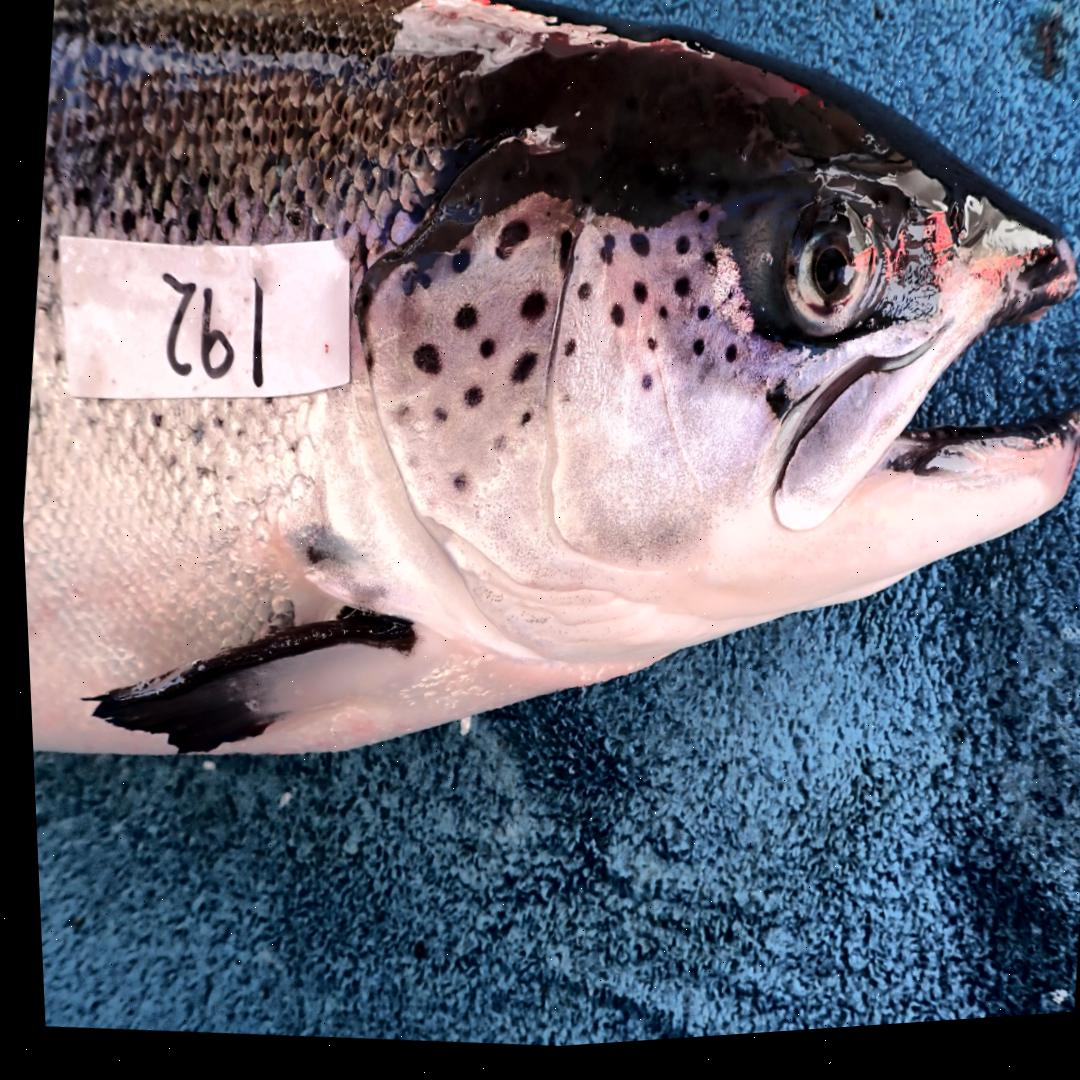spot: (491, 226, 527, 265), (409, 349, 437, 379), (506, 358, 533, 389), (517, 298, 543, 329), (396, 276, 427, 301), (450, 309, 474, 337), (555, 237, 569, 277), (448, 254, 468, 280), (596, 242, 612, 271), (447, 475, 467, 498), (627, 241, 646, 264), (460, 392, 478, 412), (629, 289, 644, 312), (670, 286, 687, 306), (606, 311, 620, 334), (699, 257, 715, 277), (476, 344, 491, 364), (428, 410, 442, 429), (673, 243, 686, 263), (574, 289, 587, 309), (692, 315, 705, 330), (488, 443, 501, 458), (561, 346, 572, 363), (721, 354, 732, 371), (638, 381, 648, 399), (655, 314, 667, 329), (694, 219, 706, 233), (642, 344, 654, 358), (689, 349, 700, 364), (516, 418, 527, 431)
